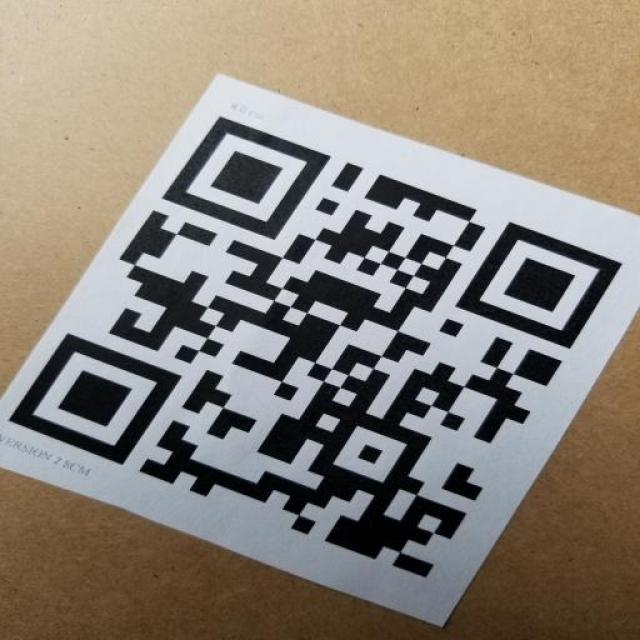QR_CODE: (2, 99, 630, 584)
